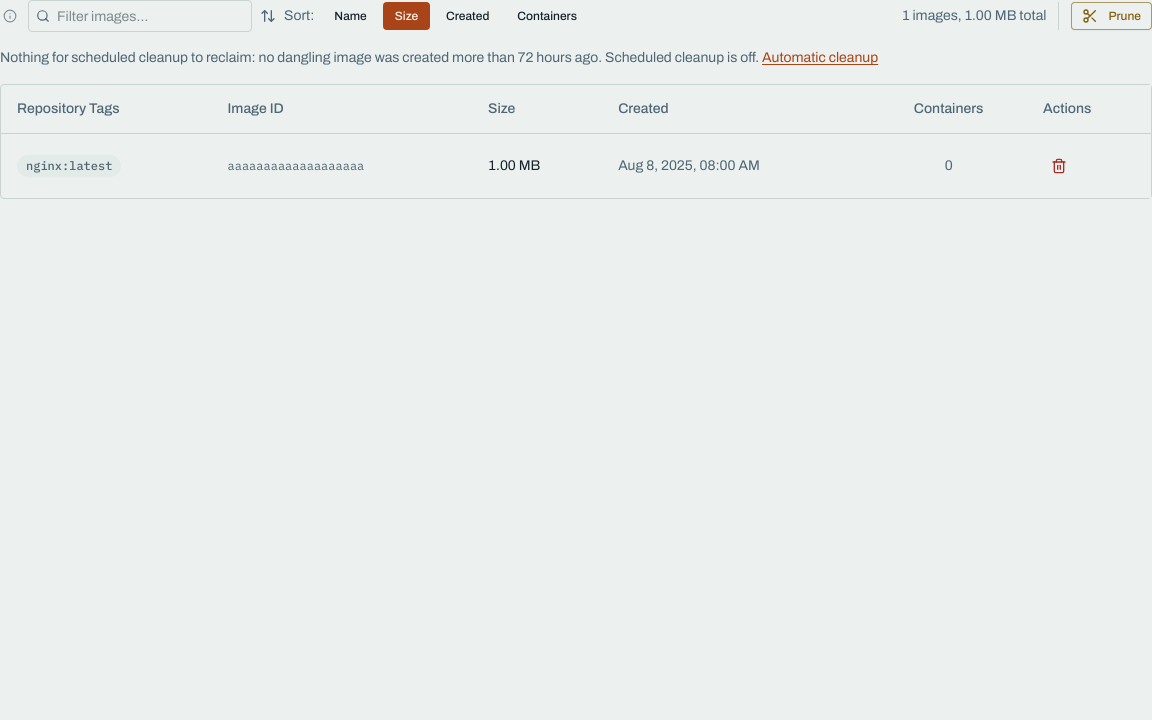
ImagesTab — deleting › deletes nothing when the confirmation is dismissed
Click the button named "Remove image". click: point(1059, 166)
box: [1043,150,1075,182]
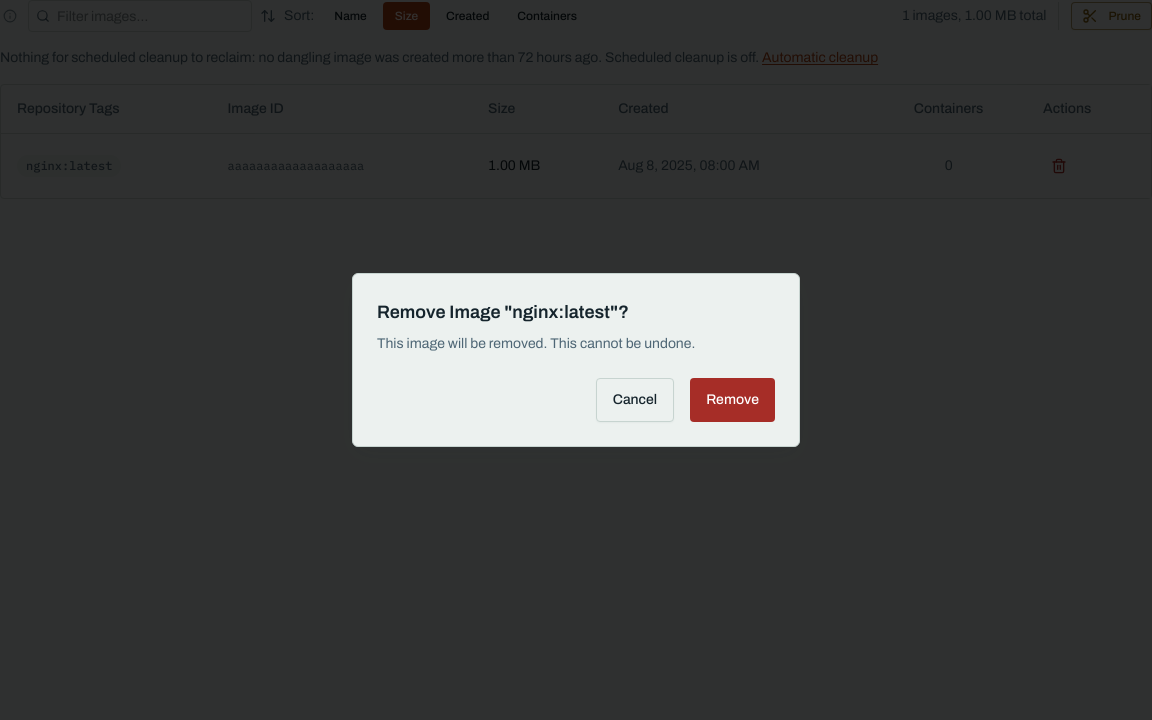
Click the button "Cancel". click: point(635, 400)
box: [596,378,674,422]
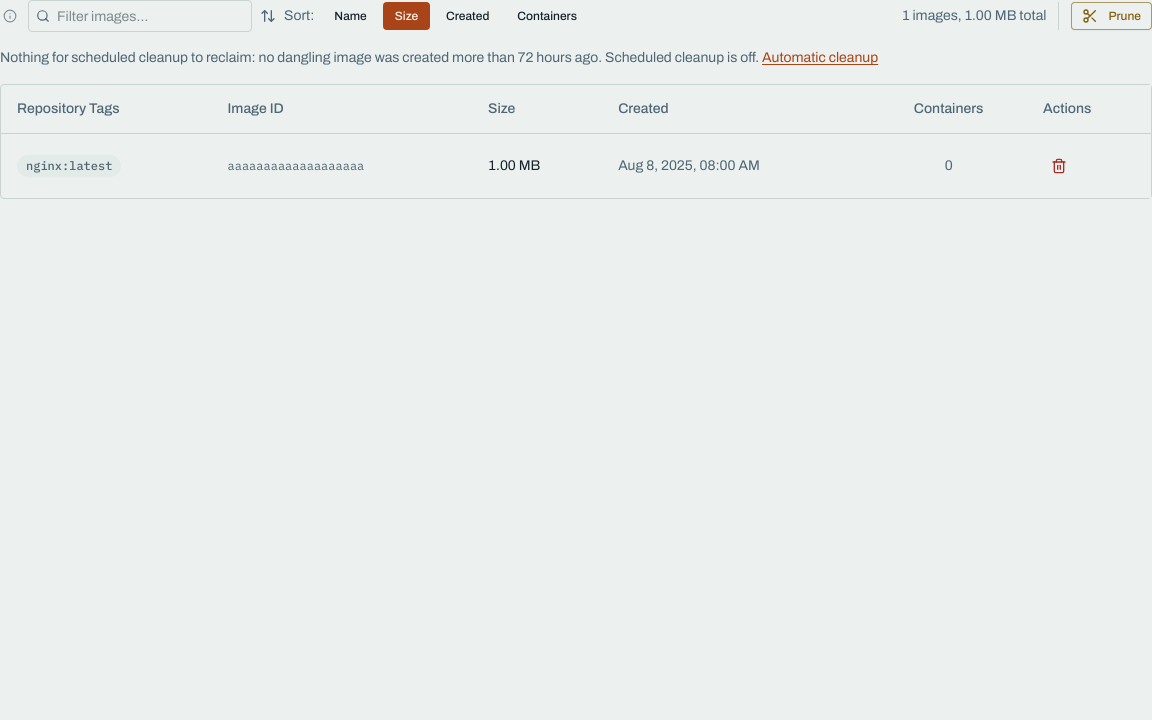
expect the heading "Remove Image" is gone: met
